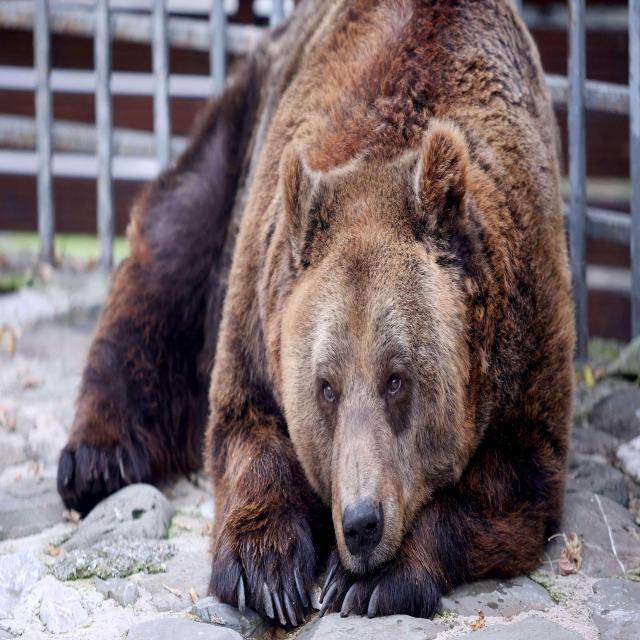Bear: (55, 0, 578, 640)
